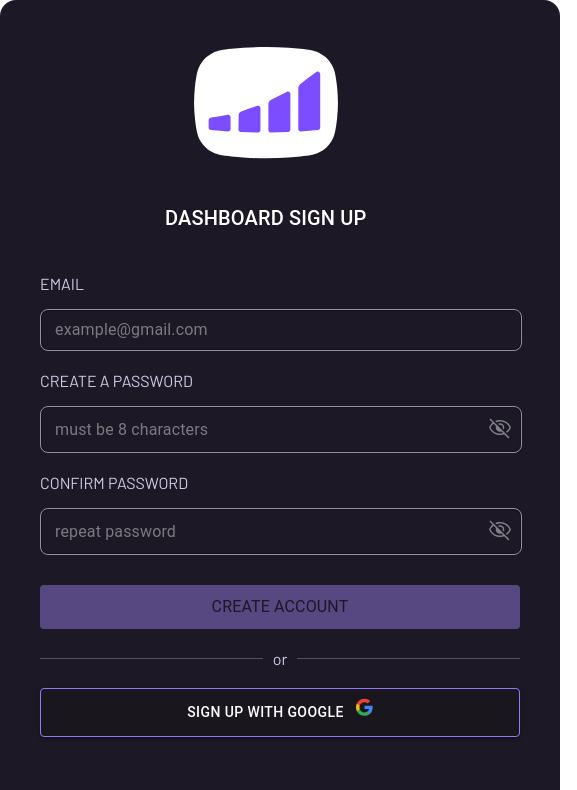
it: SignUp Organism TestCase › should toggles password visibility icon when the create password input is clicked
Expected: the picture with alt text "InvisibleIconShowPassword" is shown, [489, 418, 511, 438]
Click the 1st button with alt text "InvisibleIconShowPassword".
click(500, 429)  # box [481, 406, 519, 452]
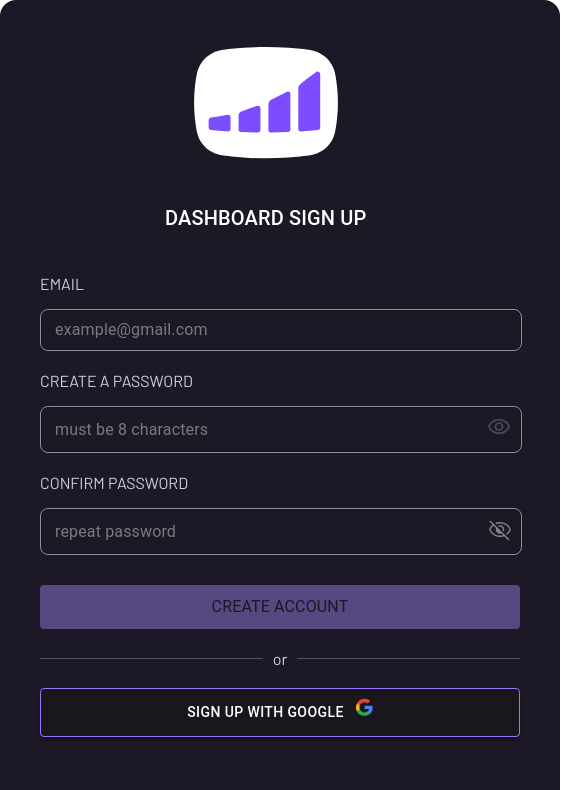
Expected: the picture with alt text "VisibleIconShowPassword" is shown, [487, 414, 511, 438]
Click the 1st button with alt text "VisibleIconShowPassword".
click(499, 429)  # box [479, 406, 519, 452]
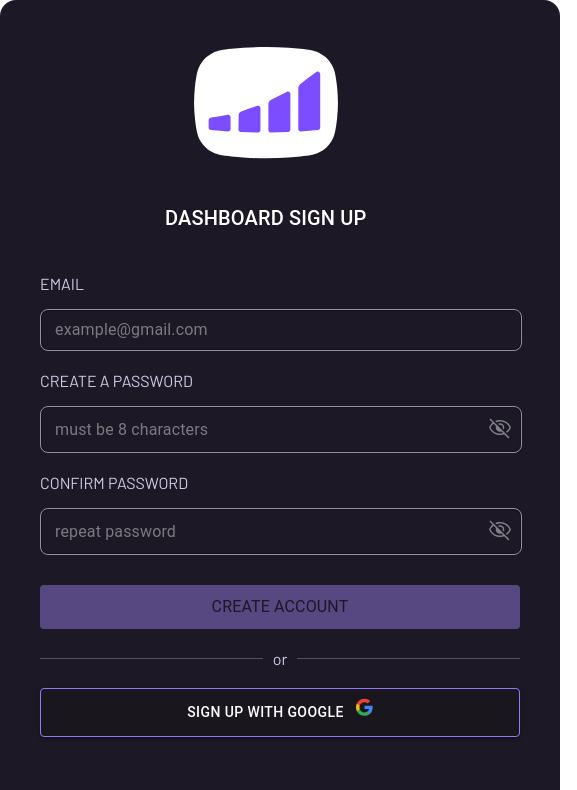
Now the picture with alt text "InvisibleIconShowPassword" is shown, box [489, 418, 511, 438]
